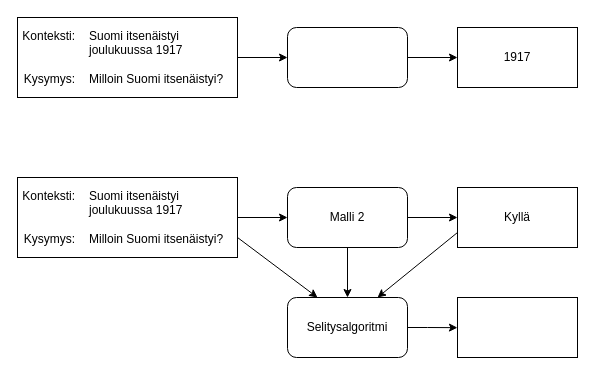
Some shapes in this 605 by 385 pixel diagram are drawn without their labels. The centre of each missing label's shape, as x and y in pixels:
"Malli 1" goes at (x=347, y=57).
"Suomi itsenäistyi joulukuussa 1917" goes at (x=517, y=327).
